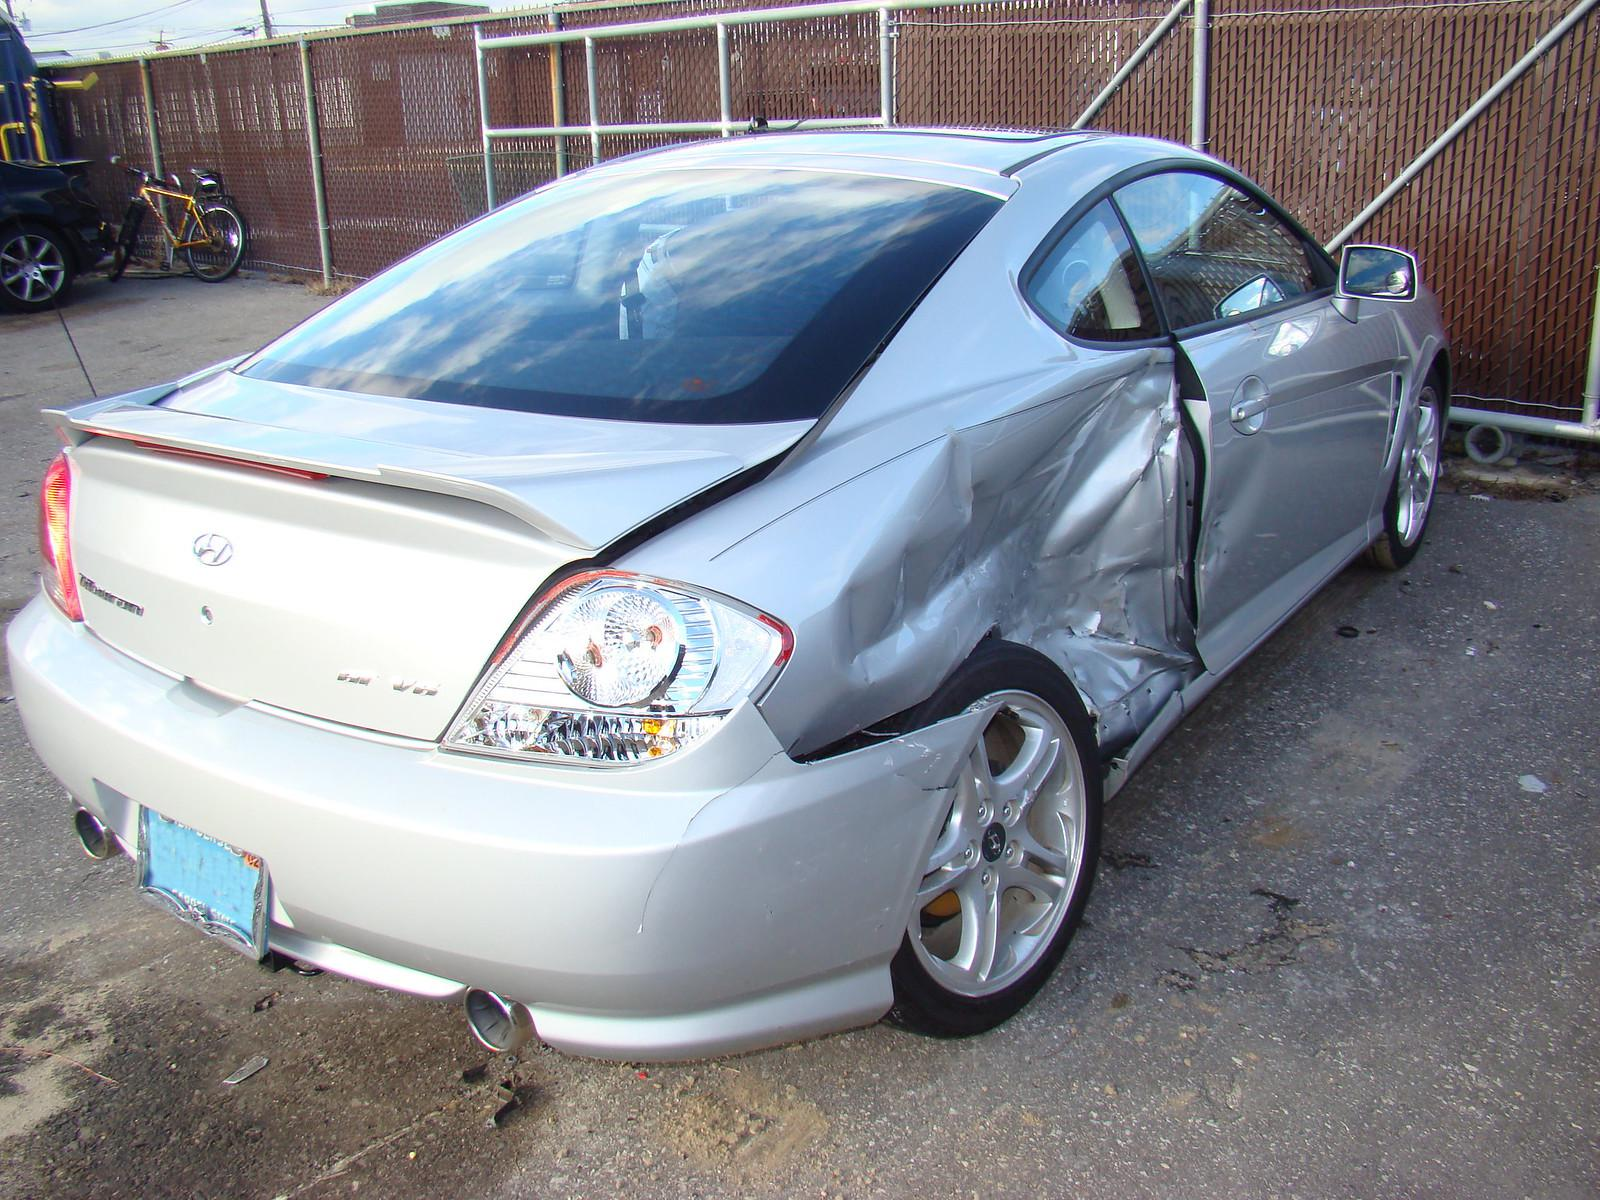doorouter-dent: (1178, 260, 1414, 599)
quaterpanel-dent: (731, 400, 1196, 795)
